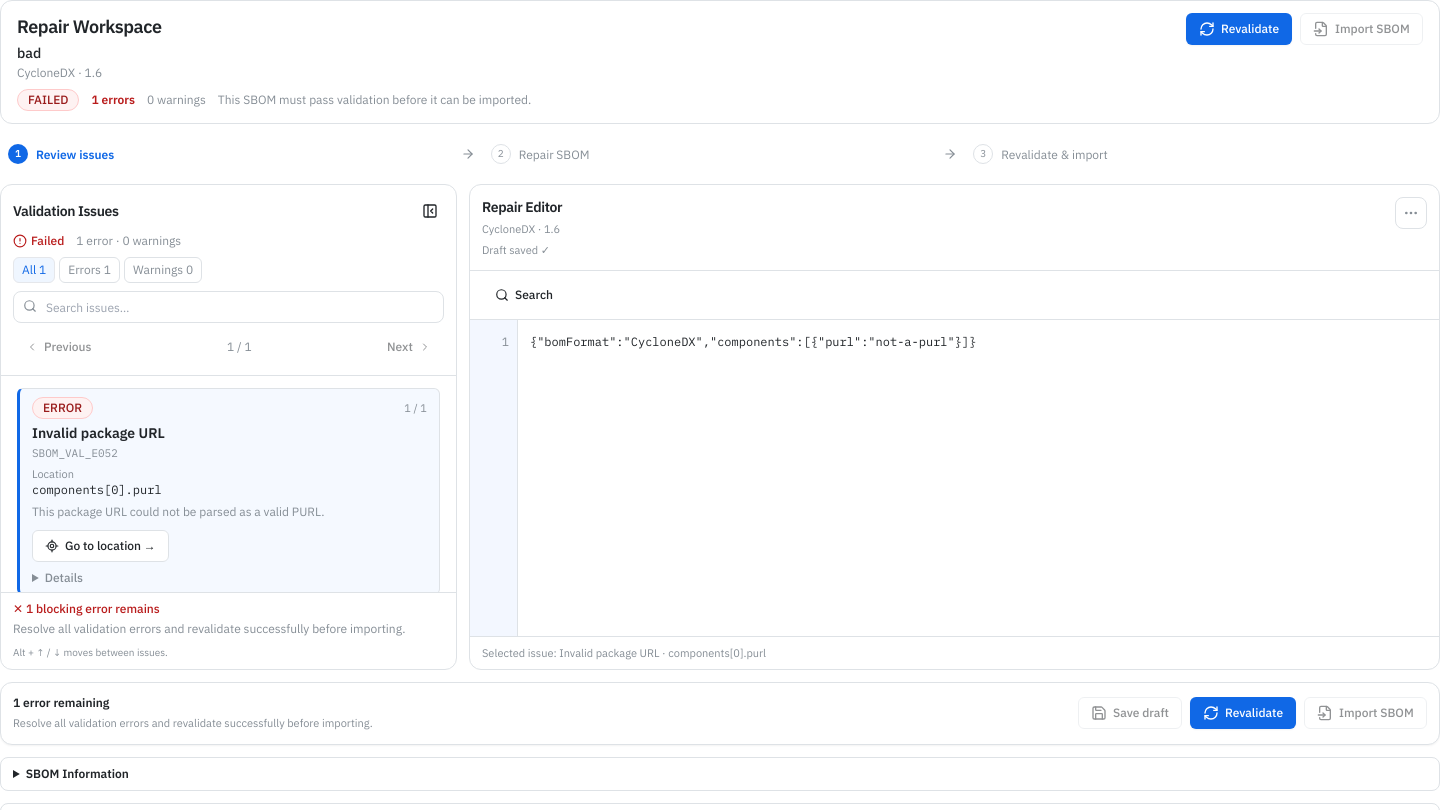
Test: ValidationRepairWorkspace › keeps issues and revalidation available in focus mode
Expected: the heading "SBOM Information" is shown, [26, 766, 129, 780]
Click the heading named "Editor utilities" at (1411, 213), box [1395, 197, 1427, 229]
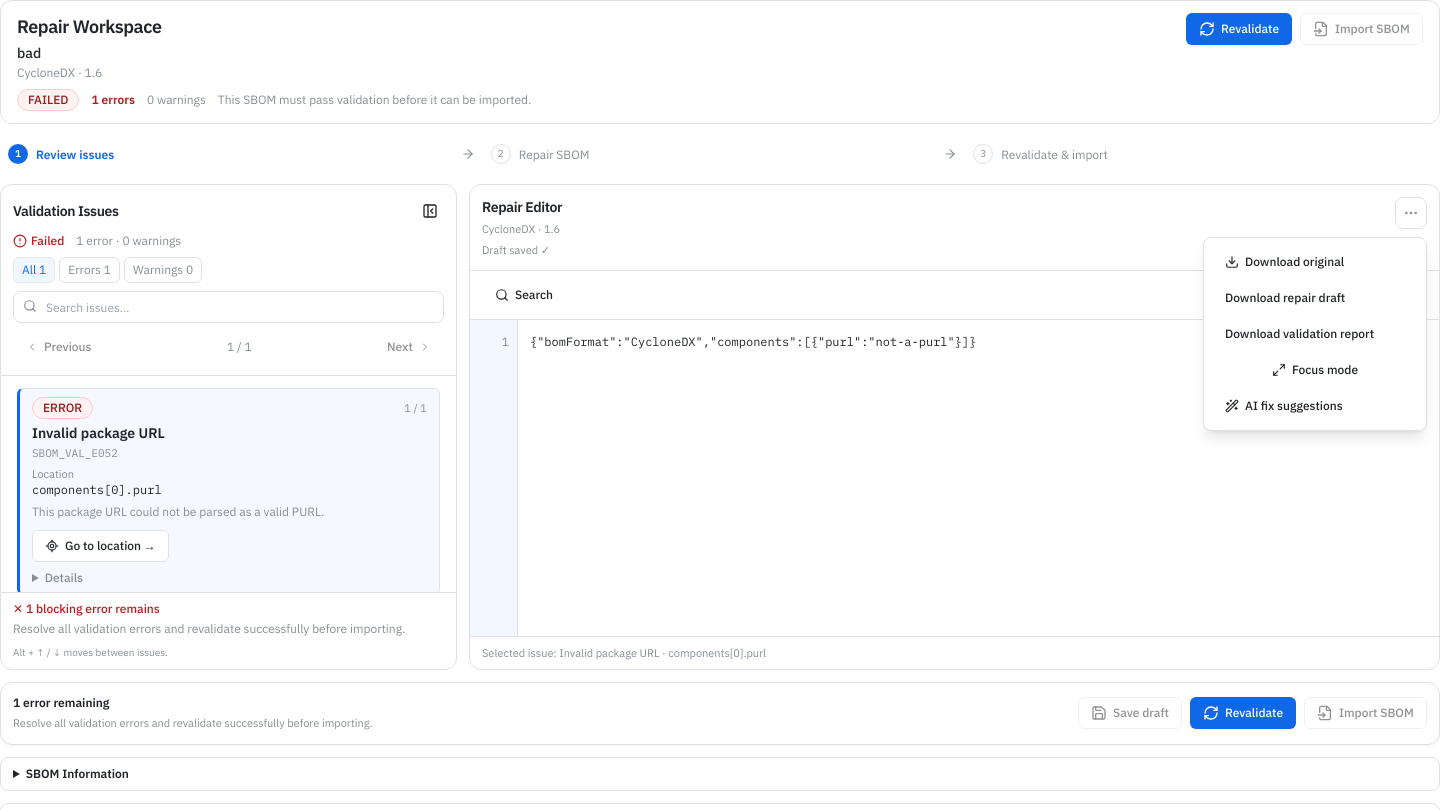
Click the button "Focus mode" at (1315, 370), box [1212, 354, 1418, 386]
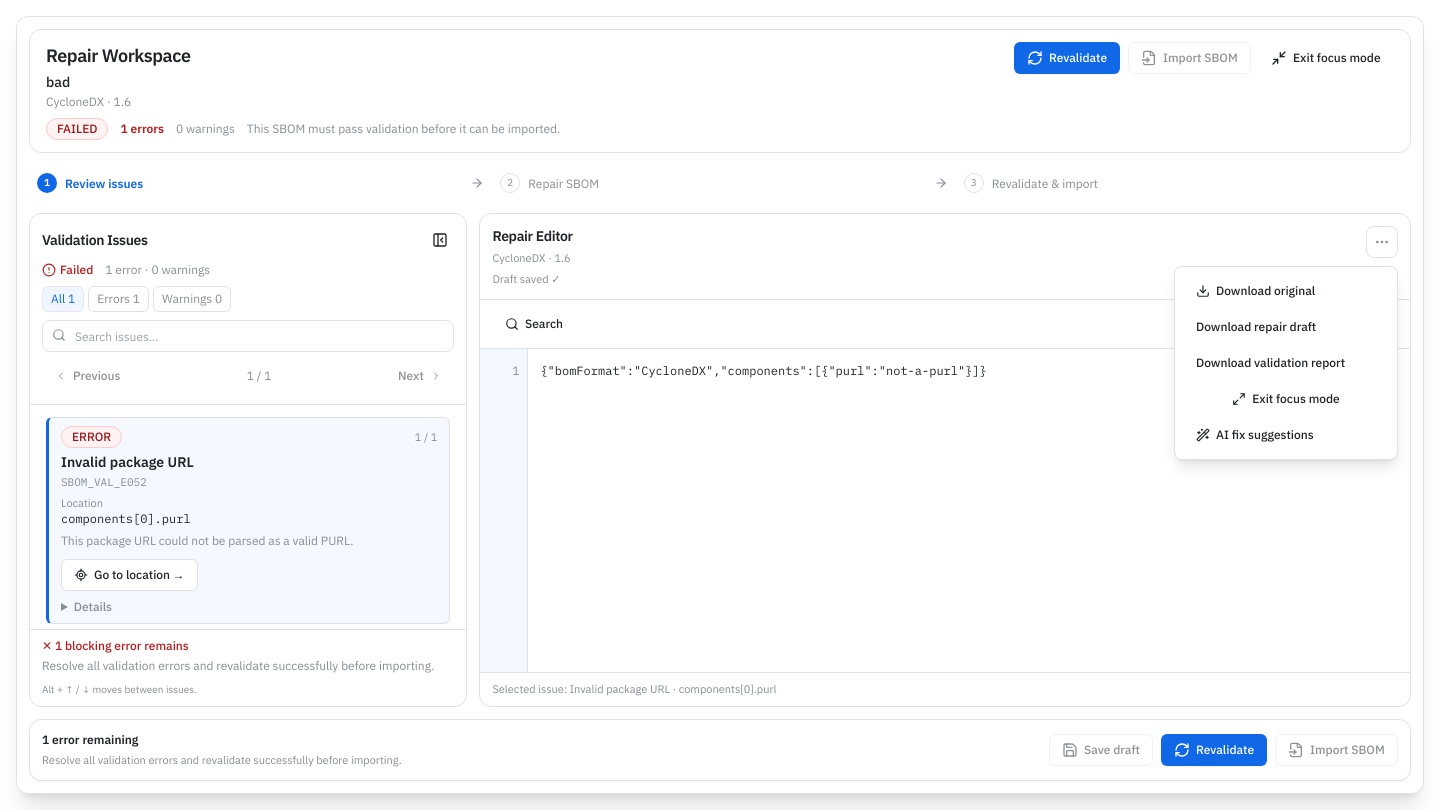
Expected: the element "Validation Issues" is shown, [29, 213, 467, 706]
Expected: the heading "SBOM Information" is gone
Expected: the button "Exit focus mode" in the row of "Repair Workspace" is shown, [1258, 42, 1394, 74]
